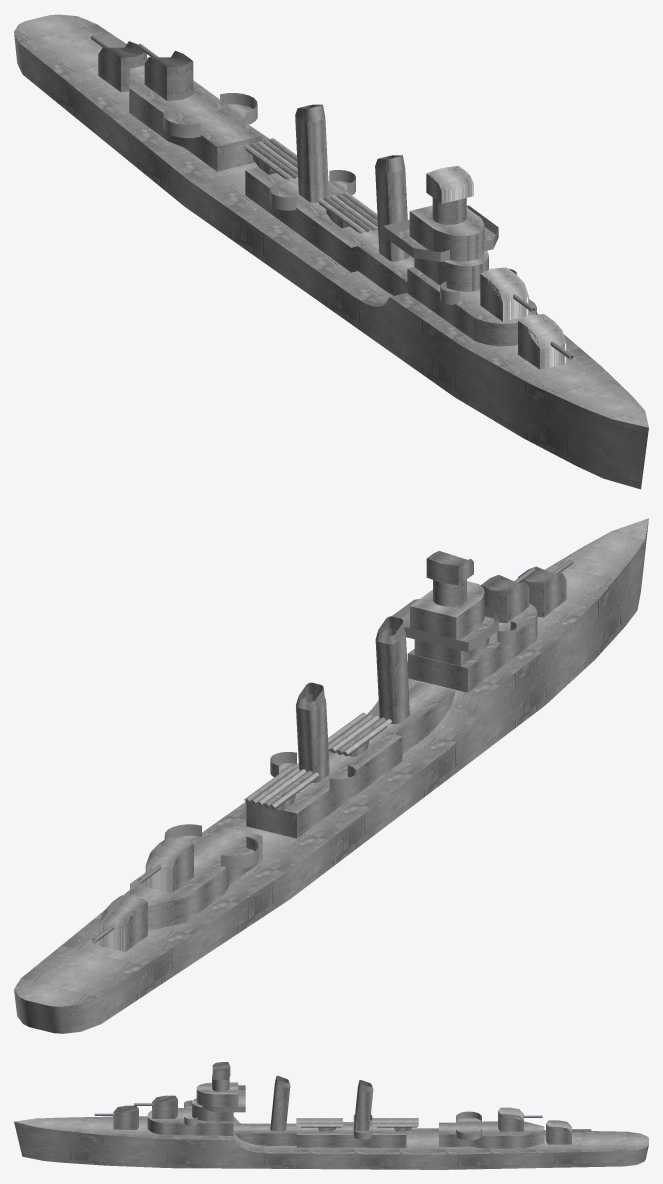
File: Benson.fbx
3 views of the same model, one above another, from view 1: azimuth 30°, elevation 25°; view 2: azimuth 150°, elevation 25°; view 3: azimuth 270°, elevation 25° (orthographic). The views are drawn at different scales.
Visible parts, largest first — view 1: pCube28; view 2: pCube28; view 3: pCube28.
Part boxes in pixels (<box>): pCube28: <box>14,14,648,489</box>; pCube28: <box>14,518,648,1033</box>; pCube28: <box>14,1062,648,1169</box>.
Bounding box in the file's own units: 1.05 × 1.67 × 10.6.
Materials: 3 (2 with a texture image).
